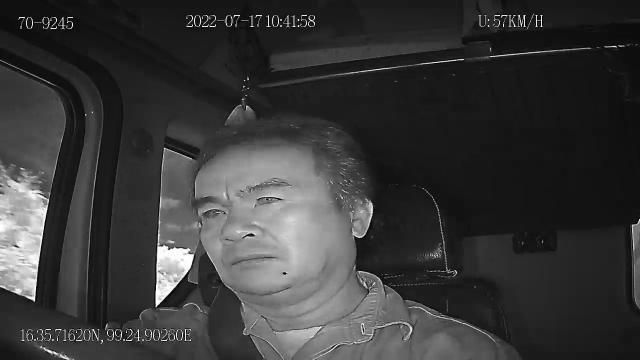SafeDriving: (250, 184, 293, 212), (194, 199, 233, 226)
Seatbelt: (206, 286, 266, 360)
